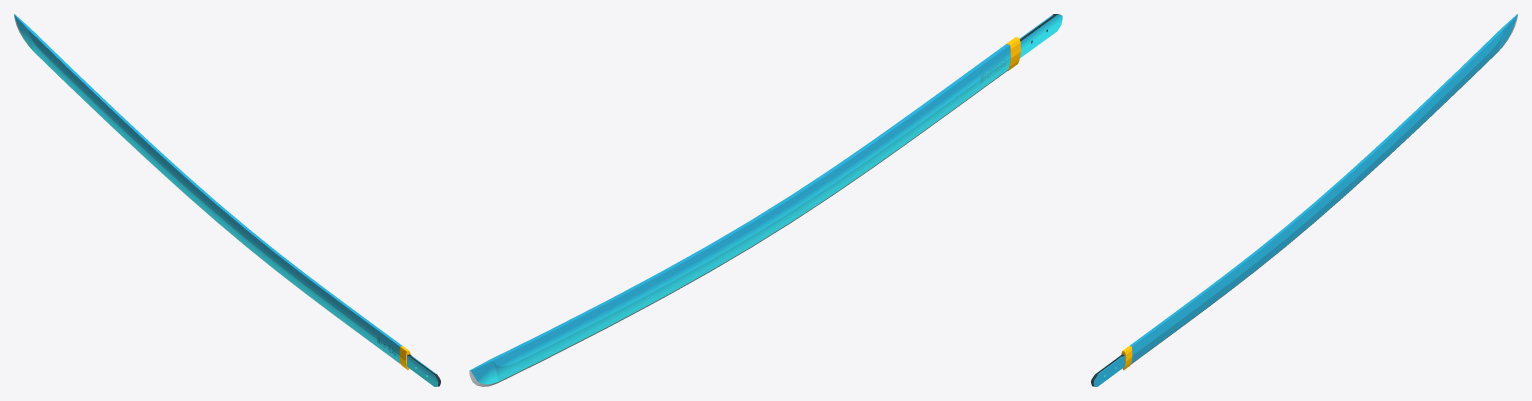
File: blade_mist.glb
3 views of the same model, side by side, from view 1: azimuth 30°, elevation 25°; view 2: azimuth 150°, elevation 25°; view 3: azimuth 330°, elevation 25° (orthographic). The views are drawn at different scales.
Visible parts, largest first — view 1: Blade; view 2: Blade; view 3: Blade.
Boxes of the visible parts, x1,y1,x2,y2 form: Blade: [14, 14, 440, 386]; Blade: [469, 14, 1062, 386]; Blade: [1091, 14, 1517, 386].
Size of the model in its own units: 0.0197 by 0.2422 by 2.75.
4 materials, 1 textured.
